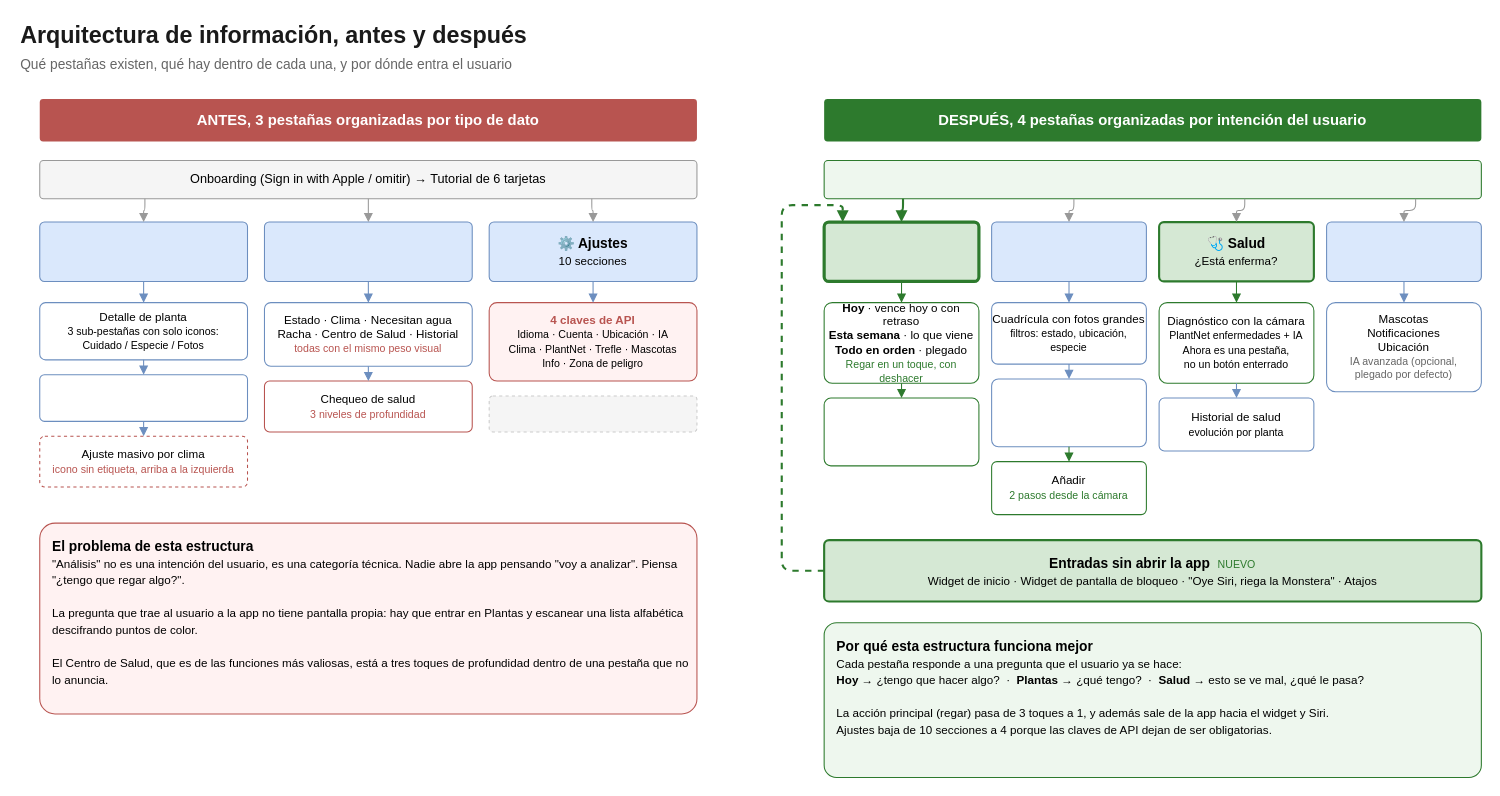
Some shapes in this 1500 by 796 pixel diagram are drawn without their labels. Here are the shapes that lost their labels. From the top down, the box of each, then its label:
(823, 160, 1481, 199): Onboarding corto → directo a la cámara · Tutorial accesible pero no obligatorio
(39, 221, 248, 281): 🌱 Plantas Lista alfabética
(263, 221, 472, 281): 📊 Análisis 6 tarjetas apiladas
(822, 220, 980, 282): ☀️ Hoy Qué hacer ahora
(991, 221, 1146, 281): 🌱 Plantas Mi colección
(1326, 221, 1481, 281): ⚙️ Ajustes 4 secciones
(39, 374, 248, 421): Añadir planta 5 pasos
(488, 395, 697, 432): 🍃 Jardín desactivada, código comentado
(991, 378, 1146, 447): Ficha de planta foto a ancho completo, scroll único sin sub-pestañas
(823, 397, 979, 466): Clima de hoy en contexto "32° y sin lluvia: 3 plantas necesitan agua antes"
